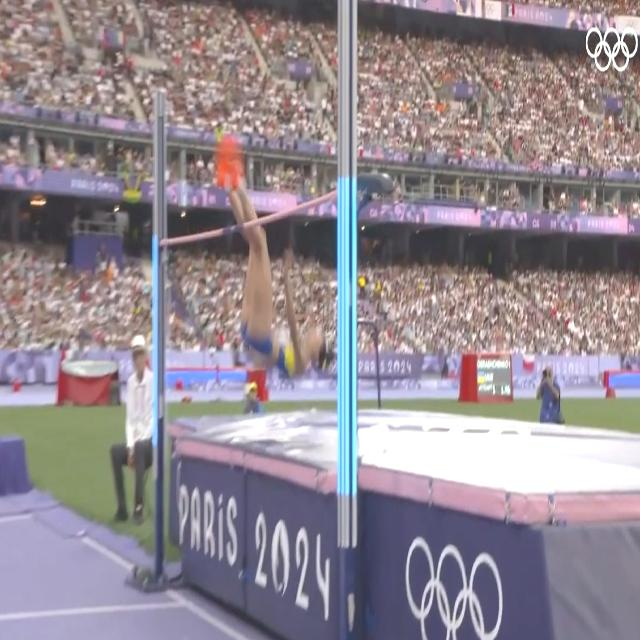land: (221, 142, 328, 378)
